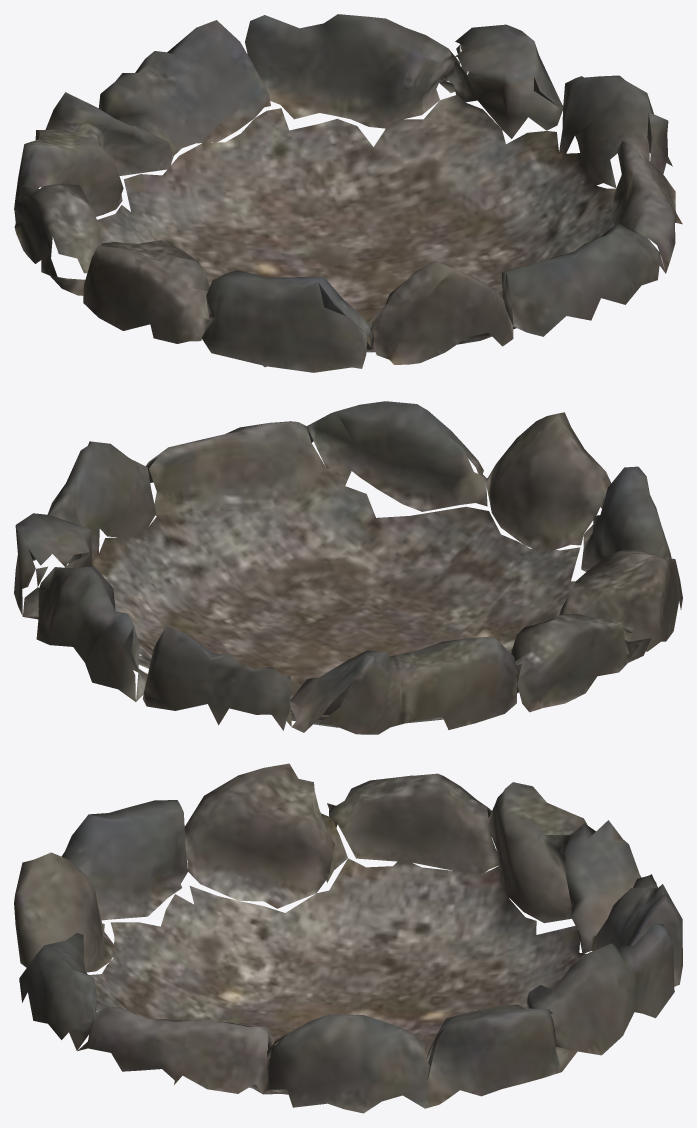
The model's file is stone_fire_pit.glb.
The picture shows the model from 3 angles, top to bottom: view 1: azimuth 30°, elevation 25°; view 2: azimuth 150°, elevation 25°; view 3: azimuth 270°, elevation 25°; orthographic projection.
Visible parts, largest first — view 1: stone_fire_pit; view 2: stone_fire_pit; view 3: stone_fire_pit.
Boxes of the visible parts, x1=… form: stone_fire_pit: x1=14, y1=14, x2=682, y2=372; stone_fire_pit: x1=14, y1=401, x2=682, y2=734; stone_fire_pit: x1=14, y1=763, x2=682, y2=1113.
Bounding box in the file's own units: 1.44 × 0.3757 × 1.42.
1 material, 1 textured.
